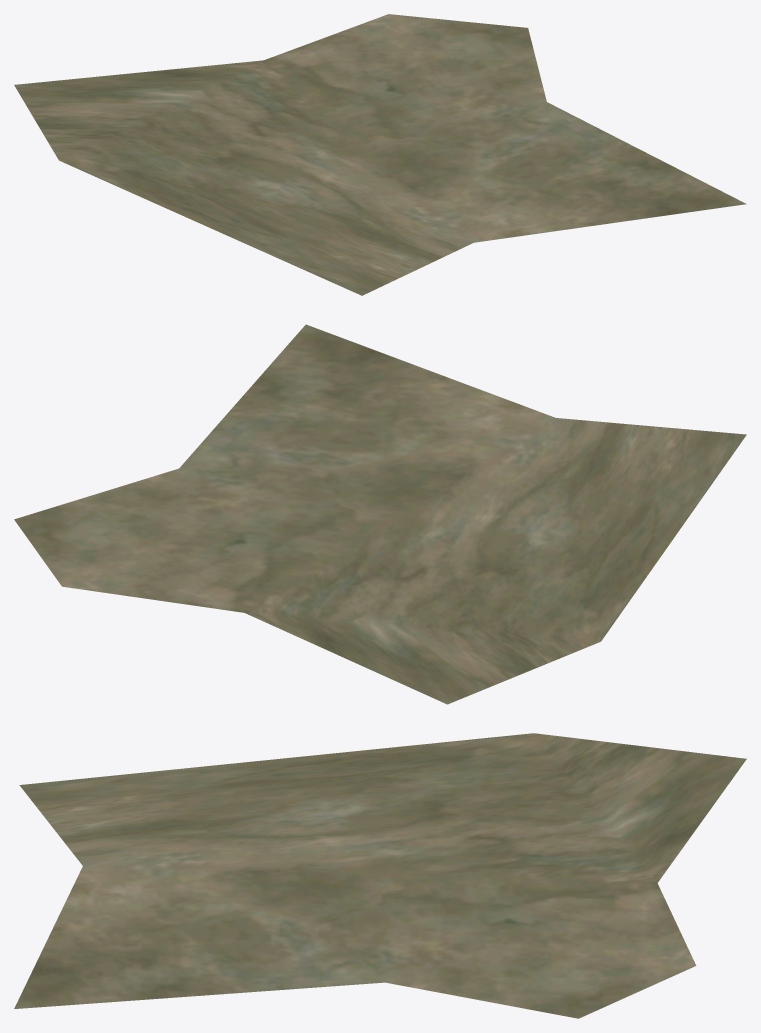
File: OVERHILL_A_01_GROUND1.fbx
The picture shows the model from 3 angles, top to bottom: view 1: azimuth 30°, elevation 25°; view 2: azimuth 150°, elevation 25°; view 3: azimuth 270°, elevation 25°; orthographic projection. The views are drawn at different scales.
Visible parts, largest first — view 1: OVERHILL_A_01_GROUND1; view 2: OVERHILL_A_01_GROUND1; view 3: OVERHILL_A_01_GROUND1.
Boxes of the visible parts, box(x1,y1,x2,y2) form: OVERHILL_A_01_GROUND1: box(14, 14, 746, 295); OVERHILL_A_01_GROUND1: box(14, 324, 746, 704); OVERHILL_A_01_GROUND1: box(14, 733, 746, 1018).
Size of the model in its own units: 13373 by 0.00847 by 14505.
Materials: 1 (1 with a texture image).
